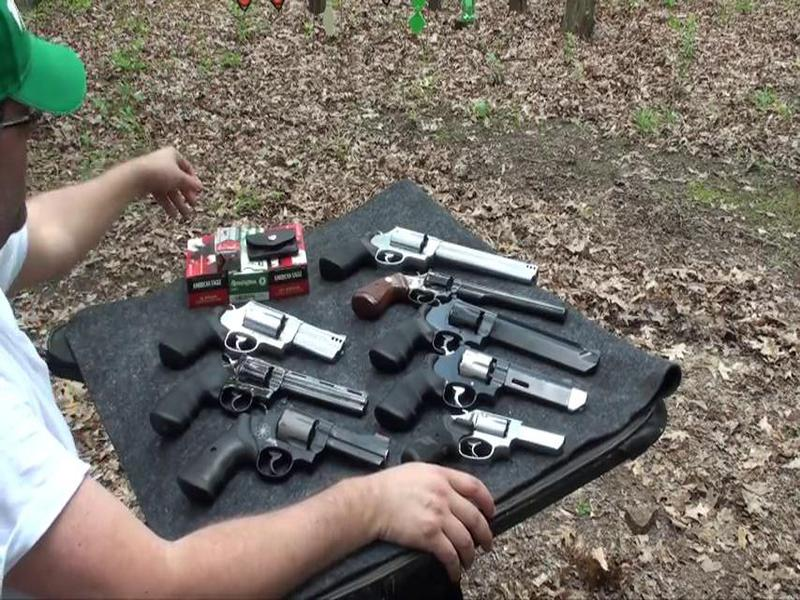Revolver: (402, 406, 570, 484)
